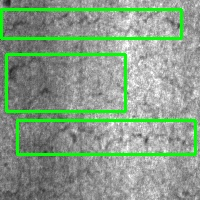crazing: (6, 54, 125, 111), (17, 120, 195, 154), (1, 9, 181, 38)
